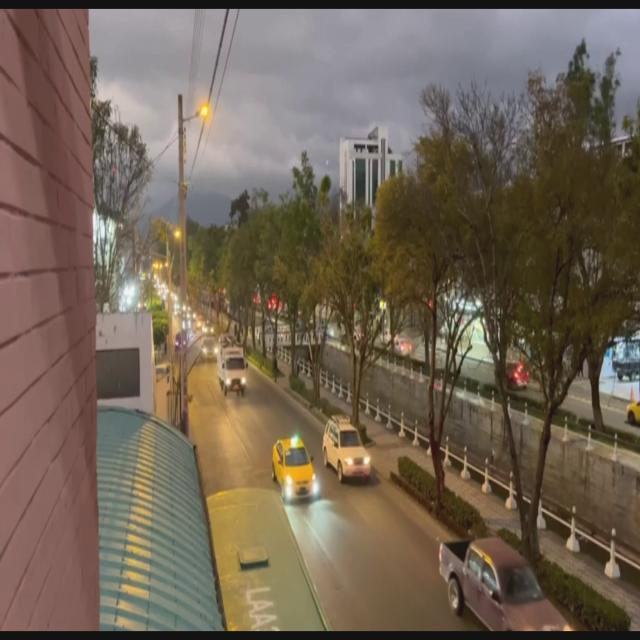CMT: (439, 540, 566, 637)
SED: (273, 441, 315, 496)
SUV: (325, 421, 371, 478)
TRUCK: (218, 346, 245, 396)
